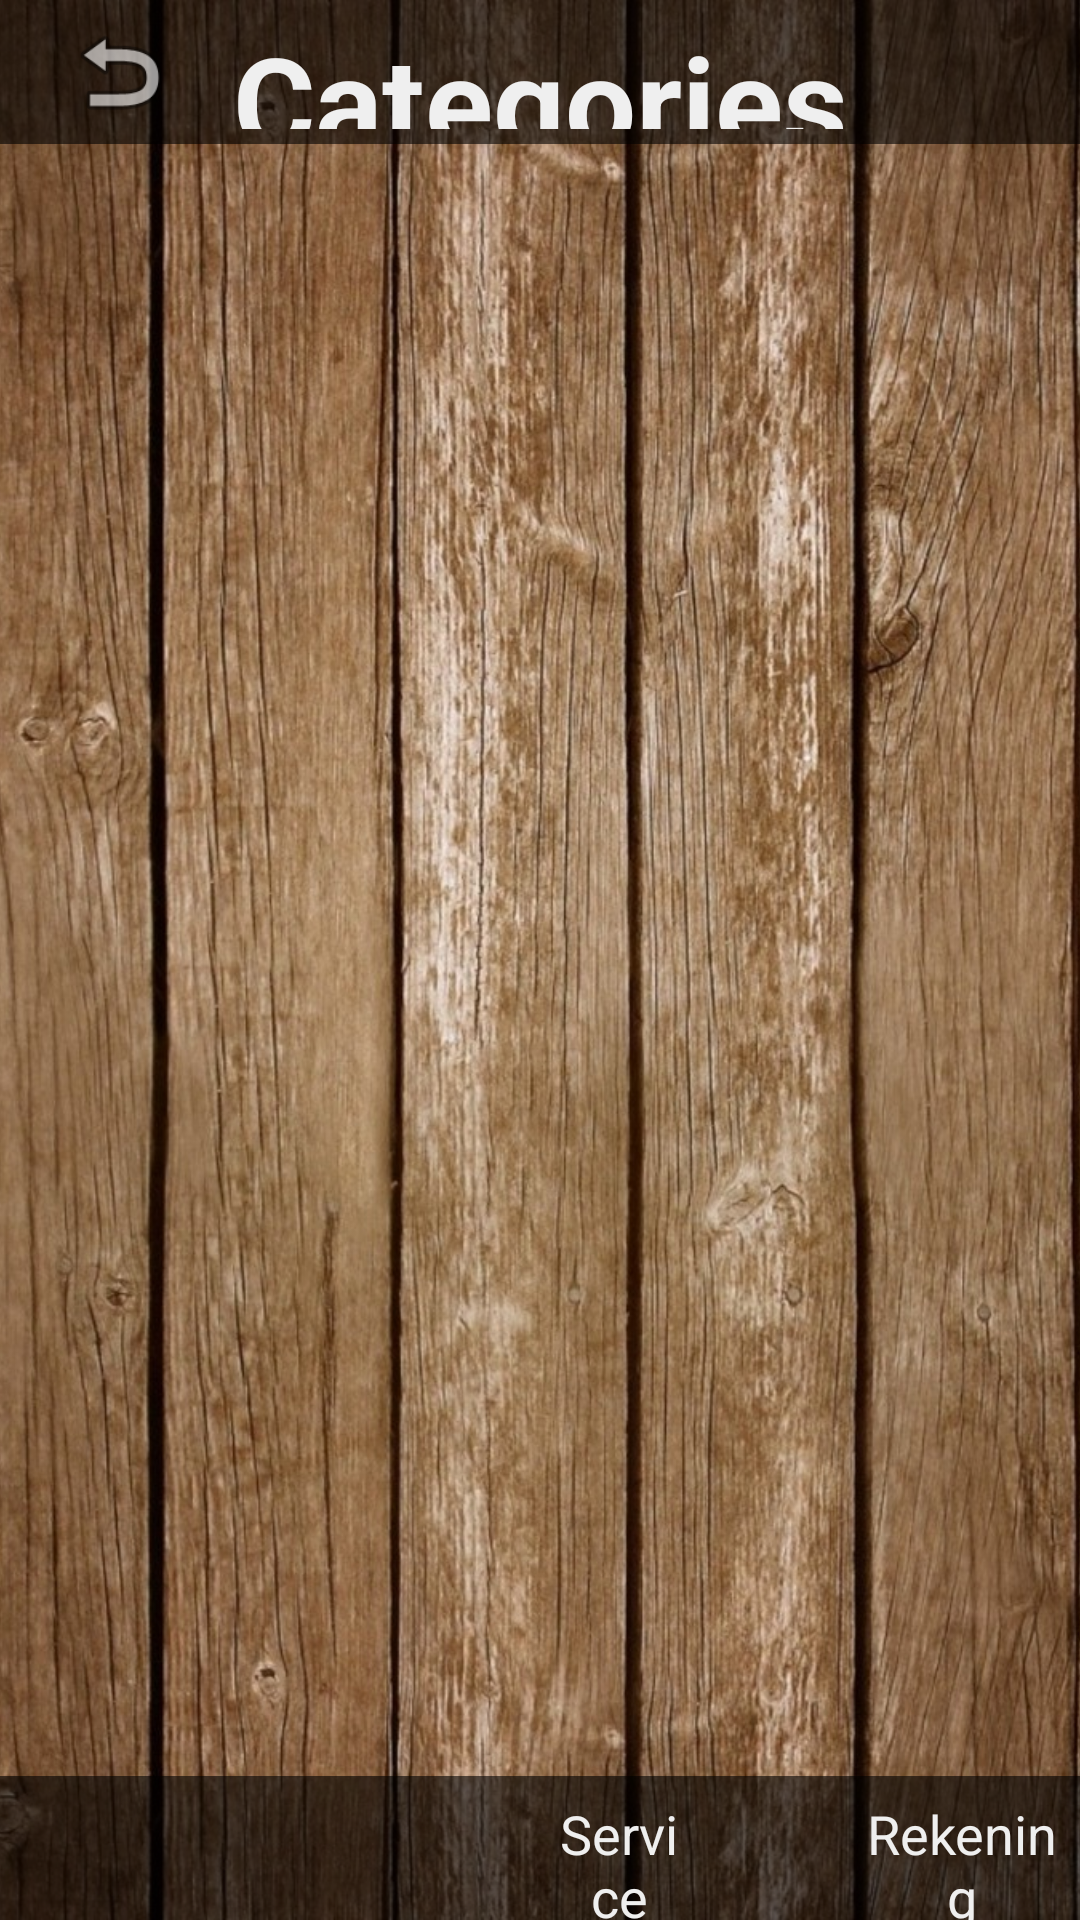

Named icons in this screenshot (1080px x 1920px) and their centers, (x=x, y=y):
revert: (x=143, y=72)
